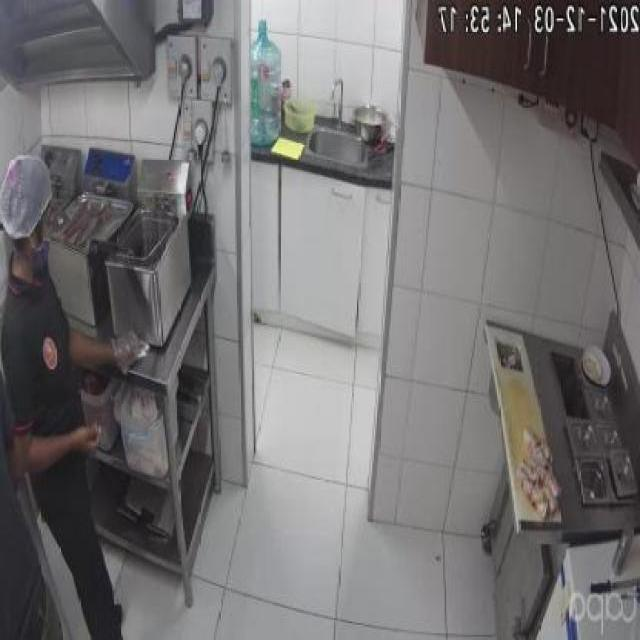hairnet: (2, 156, 44, 238)
